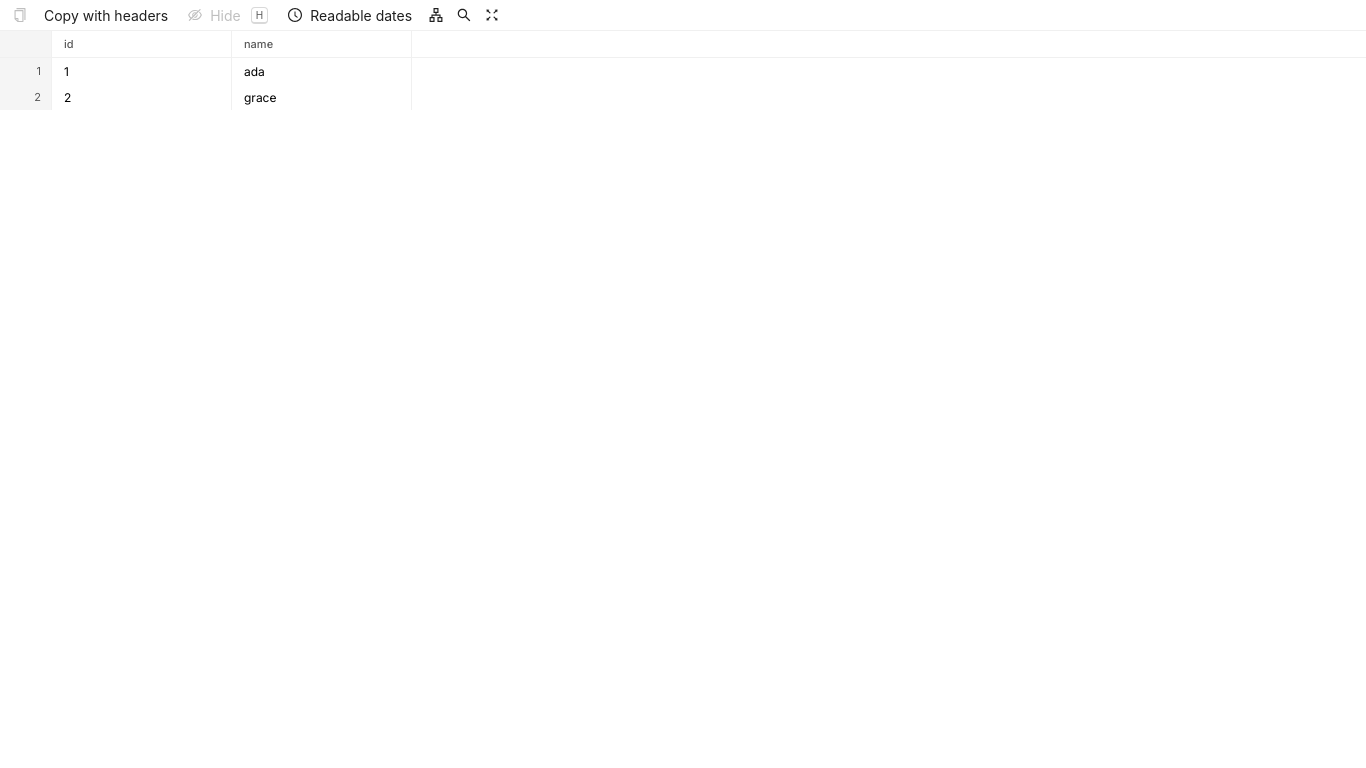
Test: the table has the full screen button too
Click the button named "Full screen". click: (492, 15)
box: top-left (480, 3), bottom-right (504, 27)
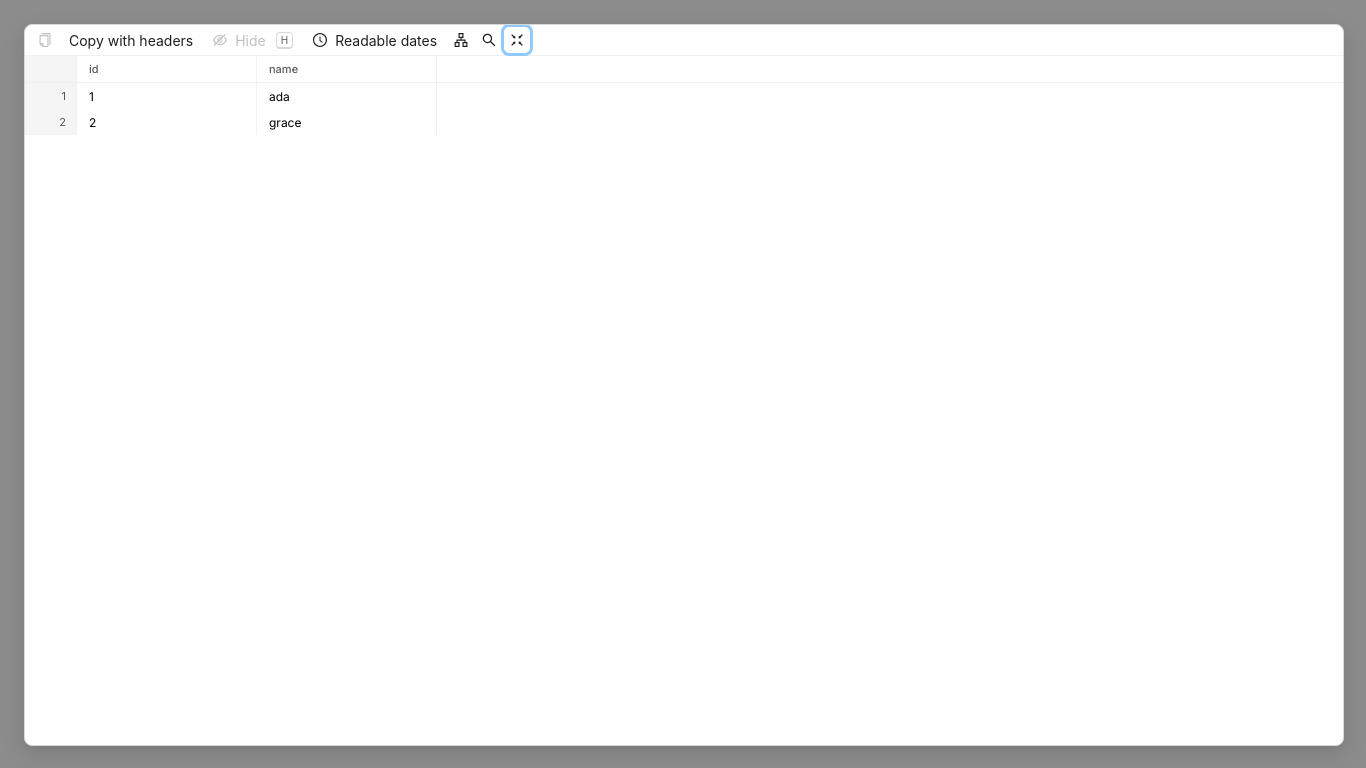
Expected: the dialog named "Results" is shown
